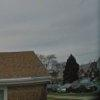Tree: (54, 50, 87, 83)
